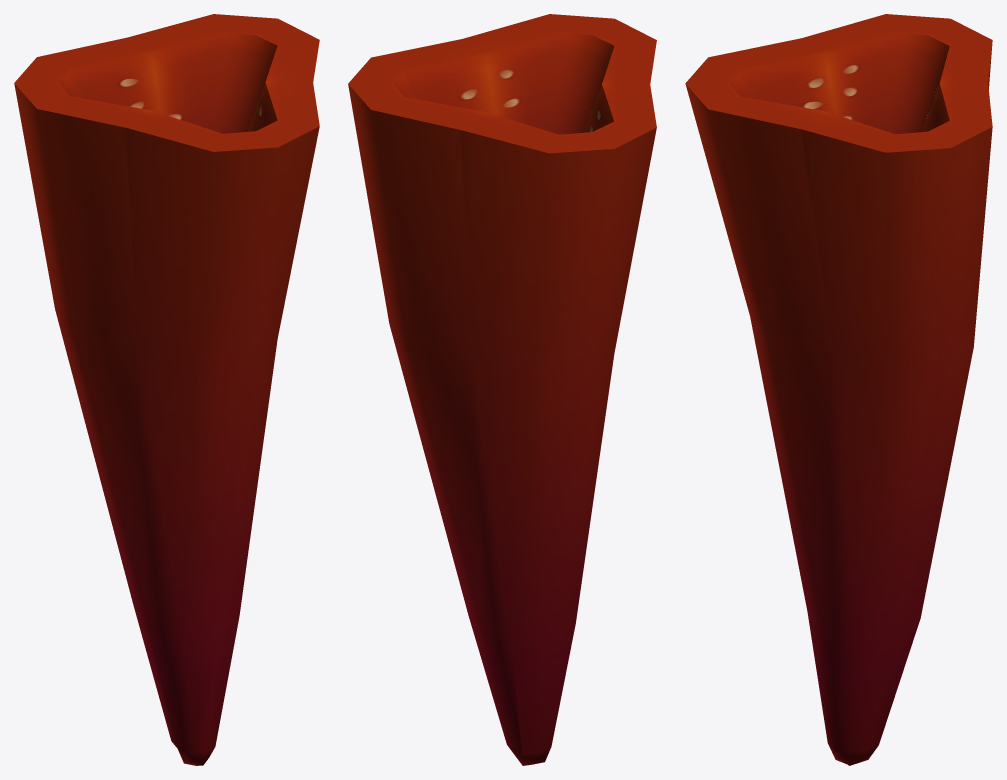
The model's file is Pepper_Pointed_Half_Bottom.fbx.
3 views of the same model, side by side, from view 1: azimuth 30°, elevation 25°; view 2: azimuth 150°, elevation 25°; view 3: azimuth 270°, elevation 25° (orthographic).
Visible parts, largest first — view 1: Pepper_Pointed_Half_Bottom; view 2: Pepper_Pointed_Half_Bottom; view 3: Pepper_Pointed_Half_Bottom.
Part boxes in pixels (x1,y1,x2,y2): Pepper_Pointed_Half_Bottom: (14, 14, 319, 765); Pepper_Pointed_Half_Bottom: (348, 14, 656, 765); Pepper_Pointed_Half_Bottom: (685, 14, 992, 765).
Size of the model in its own units: 1.35 by 3.09 by 1.26.
